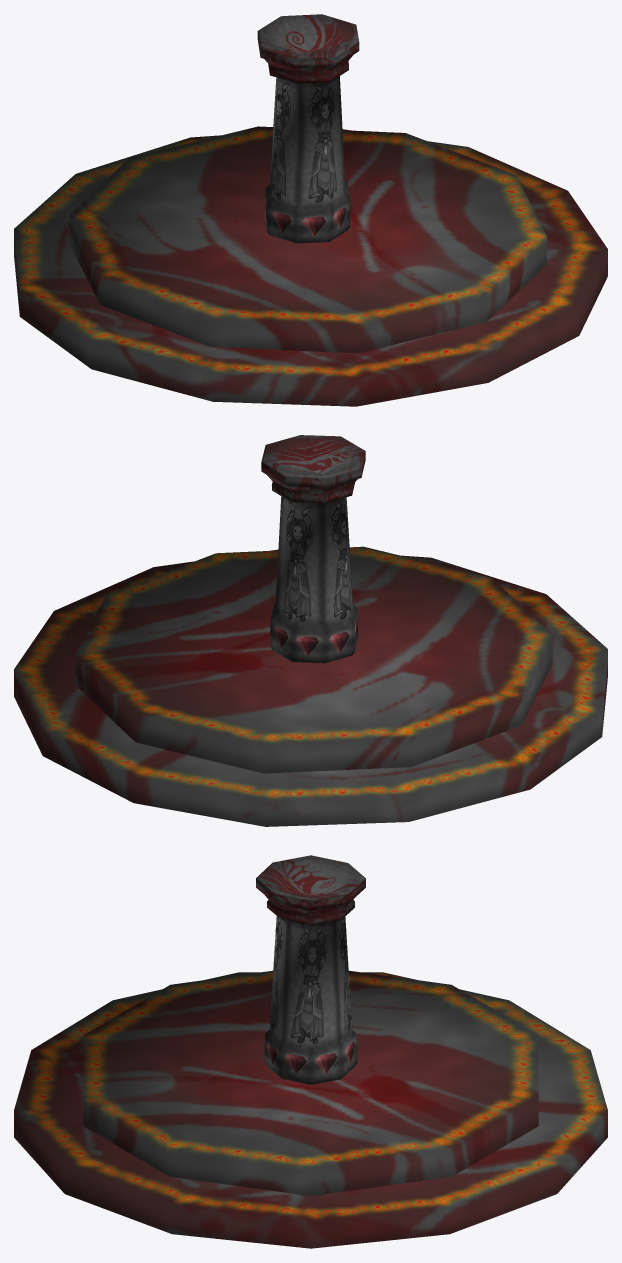
Rendered from Altar.FBX.
The picture shows the model from 3 angles, top to bottom: view 1: azimuth 30°, elevation 25°; view 2: azimuth 150°, elevation 25°; view 3: azimuth 270°, elevation 25°; orthographic projection.
Parts seen in each view (by area): view 1: Cylinder005; view 2: Cylinder005; view 3: Cylinder005.
Part boxes in pixels (<box>): Cylinder005: <box>14,14,607,406</box>; Cylinder005: <box>14,435,607,826</box>; Cylinder005: <box>14,855,607,1248</box>.
Bounding box in the file's own units: 2.56 × 2.58 × 1.18.
